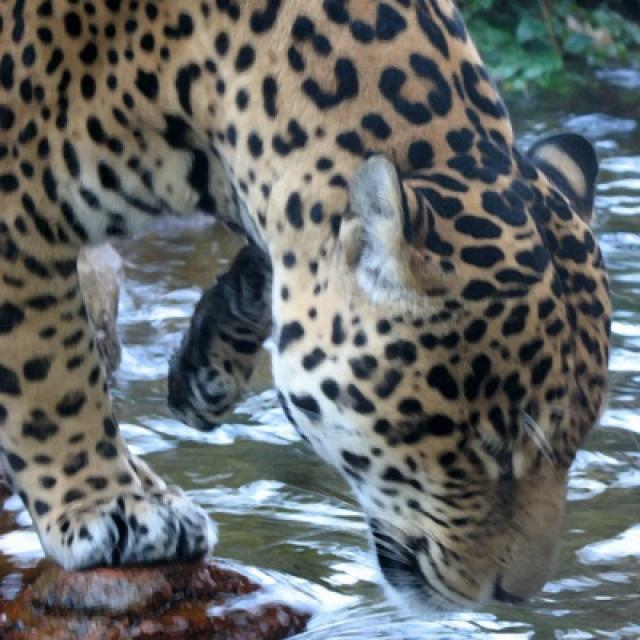Jaguar: (1, 0, 614, 628)
